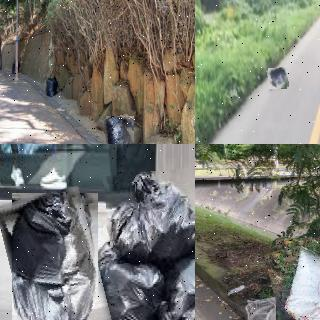Garbage: (3, 188, 106, 320), (104, 167, 195, 261), (89, 240, 167, 320), (270, 231, 320, 320), (155, 250, 195, 320), (103, 114, 136, 144), (267, 67, 288, 90), (44, 74, 61, 98)
